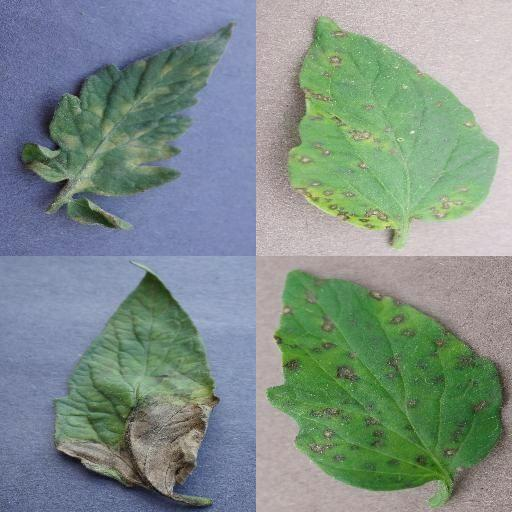Late Blight: (50, 257, 222, 507)
Leaf Mold: (20, 22, 235, 198)
Septoria: (271, 271, 505, 491), (286, 16, 500, 232)
